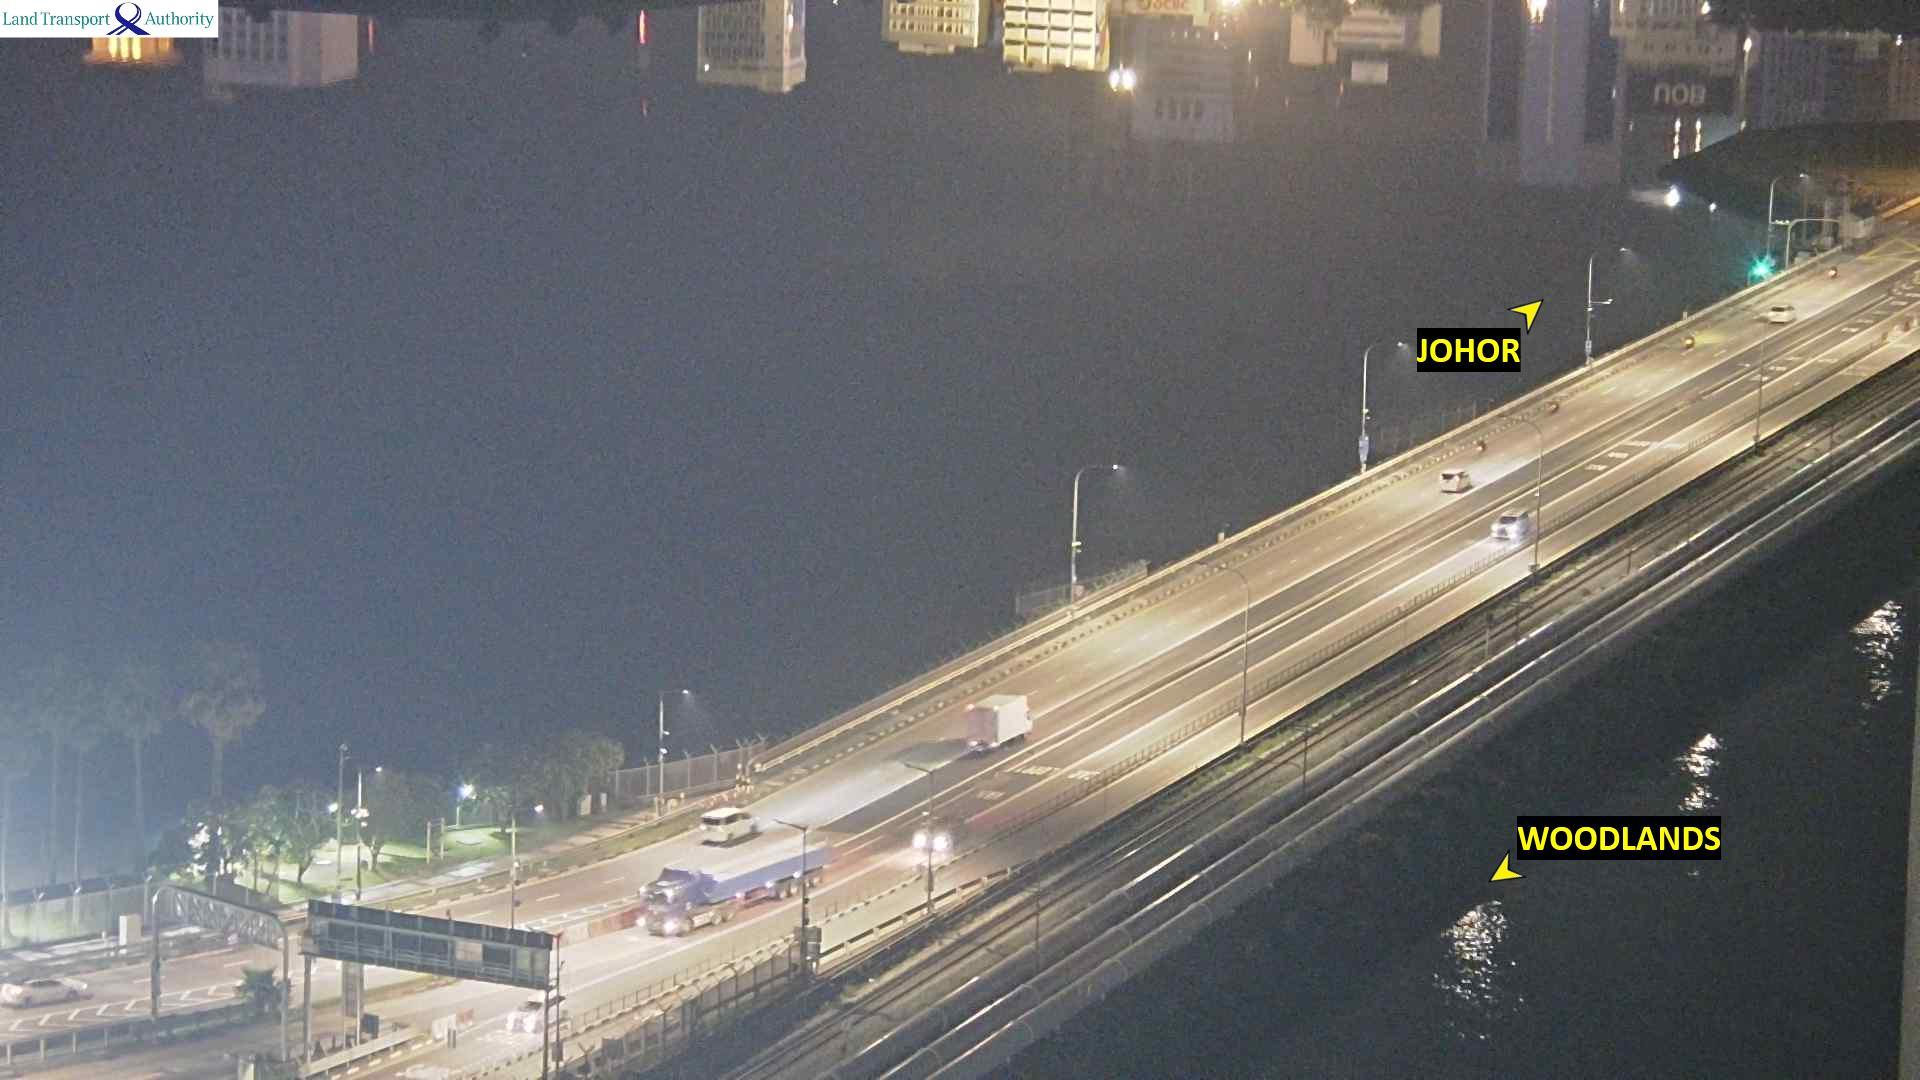vehicle-causeway-johor: (967, 692, 1034, 757), (700, 807, 757, 845), (1441, 469, 1470, 493), (1767, 302, 1796, 323), (1474, 436, 1486, 454), (1828, 264, 1838, 280), (1548, 401, 1560, 414), (1684, 332, 1695, 347)
vehicle-causeway-singapore: (642, 845, 822, 935), (508, 990, 568, 1031), (918, 815, 969, 852), (1491, 506, 1531, 543)
